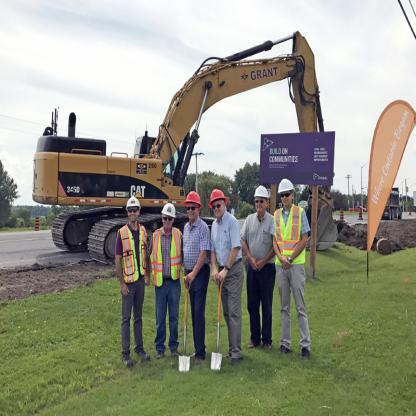person: (273, 166, 316, 362), (108, 192, 148, 366), (206, 178, 242, 370), (240, 173, 272, 354), (149, 195, 182, 367), (184, 178, 206, 385)
